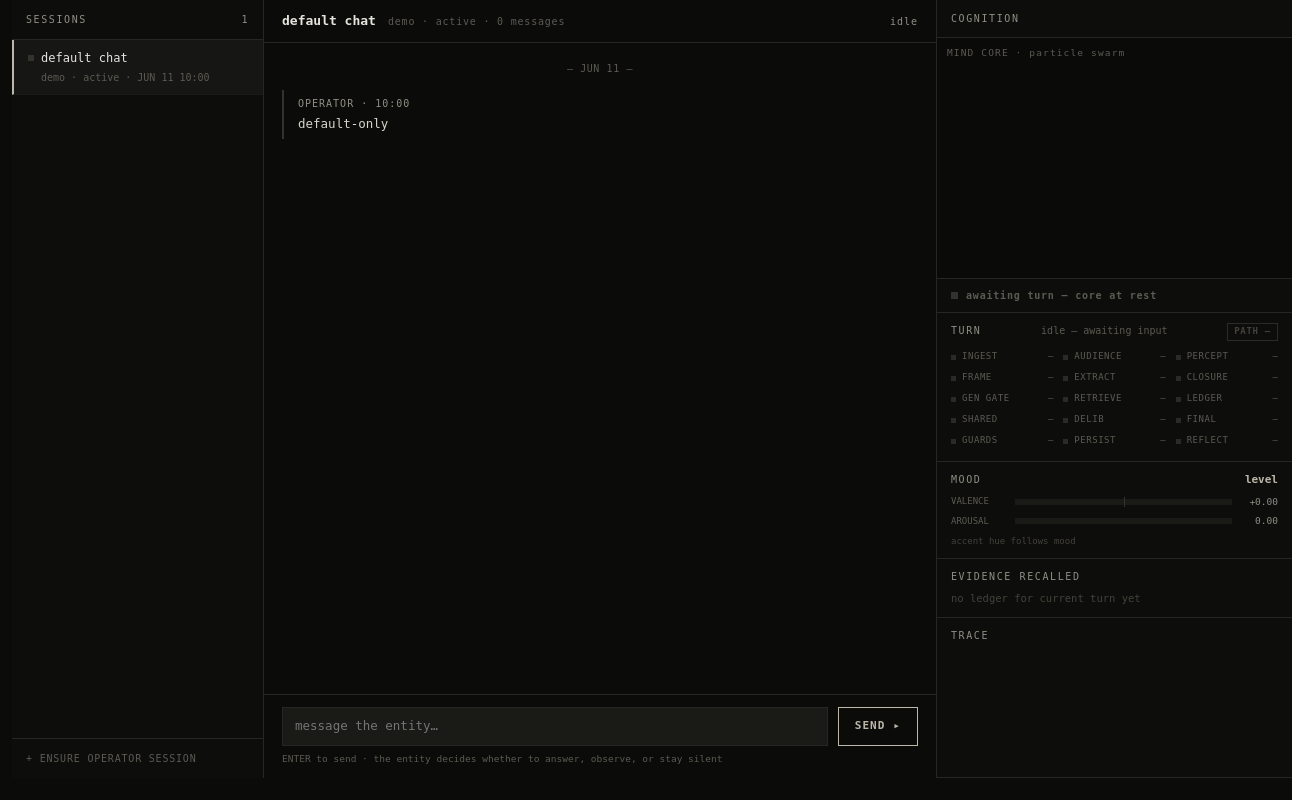
Test case: Chat page › does not render a previous session stream while the selected session is loading
The image size is (1292, 800).
Expected: the text "default-only" is shown, [298,116,388,130]
What coordinates should you click on to do the following:
click the button "+ ENSURE OPERATOR SESSION"
I would click on:
 (111, 758)
Its box is [26,751,196,766].
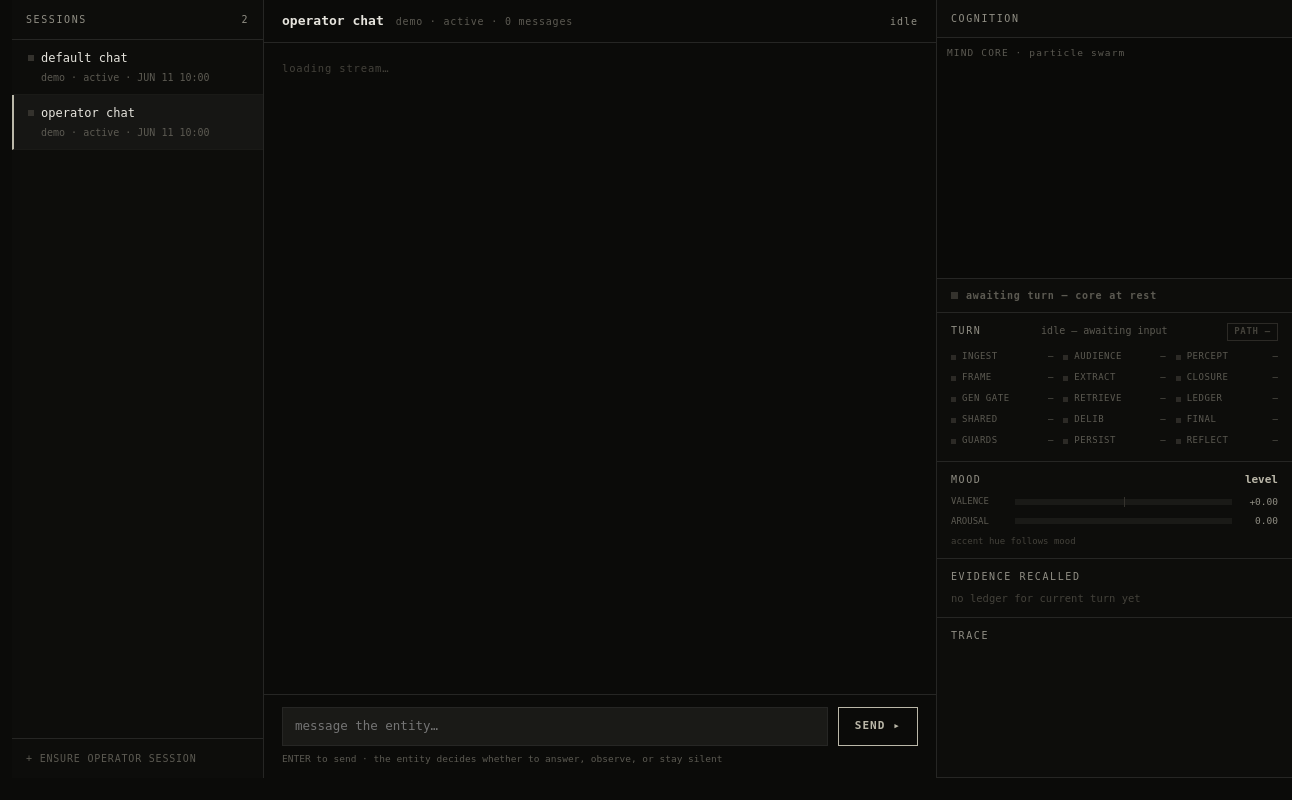
Expected: the text "default-only" is gone
Expected: the text "loading stream…" is shown, [282,62,389,74]
